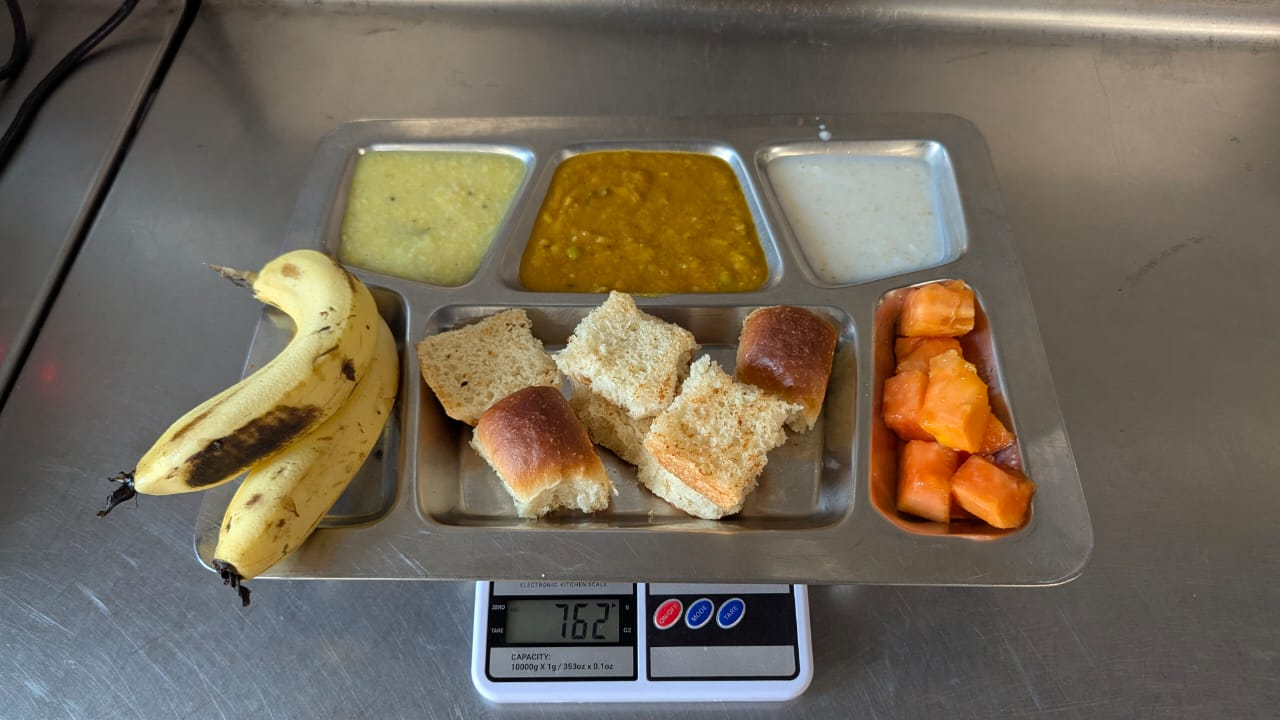bowl: (413, 298, 864, 554), (142, 248, 412, 613), (868, 277, 1026, 563), (745, 110, 974, 282), (521, 132, 758, 297), (327, 123, 507, 295)
